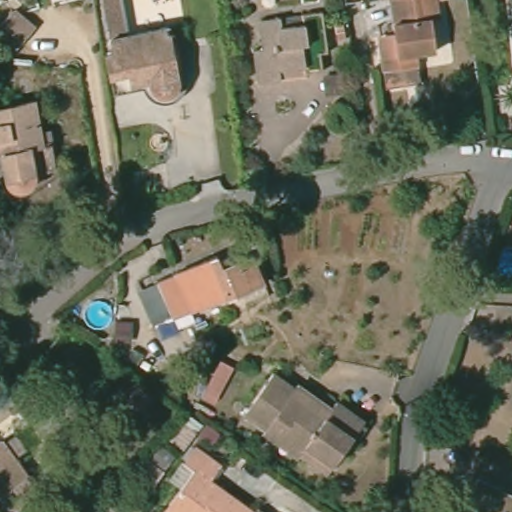pool: (77, 295, 120, 329)
